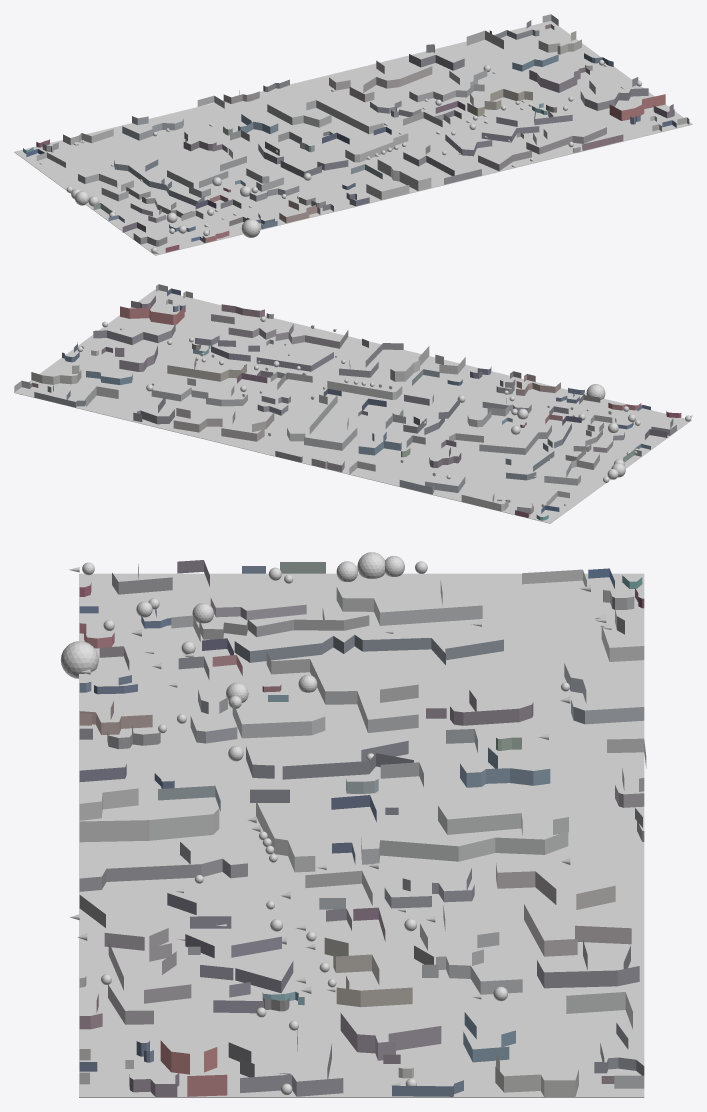
Rendered from scene_7ccf5962-aa7c-4768-9482-0725ed7b7233.glb.
The picture shows the model from 3 angles, top to bottom: view 1: azimuth 30°, elevation 25°; view 2: azimuth 150°, elevation 25°; view 3: azimuth 270°, elevation 25°; orthographic projection. The views are drawn at different scales.
Visible parts, largest first — view 1: Ground_Base, BLD-041, BLD-075, BLD-081, BLD-025, BLD-060, BLD-072, BLD-061, BLD-059, BLD-036, BLD-069, BLD-047 (+13 smaller); view 2: Ground_Base, BLD-081, BLD-025, BLD-041, BLD-075, BLD-072, BLD-061, BLD-060, BLD-059, BLD-032, BLD-047, BLD-044 (+12 smaller); view 3: Ground_Base, BLD-075, BLD-041, BLD-081, BLD-025, BLD-069, BLD-060, BLD-031, BLD-061, BLD-059, BLD-036, BLD-047 (+24 smaller).
Part boxes in pixels (x1,y1,x2,y2): Ground_Base: (14,21,692,255); BLD-041: (445,107,572,156); BLD-075: (267,100,383,134); BLD-081: (329,60,432,102); BLD-025: (478,127,606,171); BLD-060: (258,141,348,177); BLD-072: (409,70,487,102); BLD-061: (167,148,246,197); BLD-059: (467,89,532,116); BLD-036: (403,145,481,184); BLD-069: (114,159,204,206); BLD-047: (580,77,648,110); Ground_Base: (14,289,691,523); BLD-081: (173,408,274,441); BLD-025: (211,314,348,348); BLD-041: (195,335,333,371); BLD-075: (287,394,357,450); BLD-072: (151,378,247,406); BLD-061: (449,425,551,454); BLD-060: (403,394,459,434); BLD-059: (167,357,246,381); BLD-032: (120,306,184,324); BLD-047: (93,323,175,344); BLD-044: (327,381,402,399); Ground_Base: (79,573,644,1097); BLD-075: (361,806,568,864); BLD-041: (167,893,293,1013); BLD-081: (496,863,631,956); BLD-025: (79,895,191,1024); BLD-069: (234,635,503,664); BLD-060: (246,740,413,802); BLD-031: (79,808,219,842); BLD-061: (266,651,418,732); BLD-059: (324,937,412,1007); BLD-036: (79,842,247,891); BLD-047: (228,1029,343,1096).
Bounding box in the file's own units: 659 × 20 × 307.
